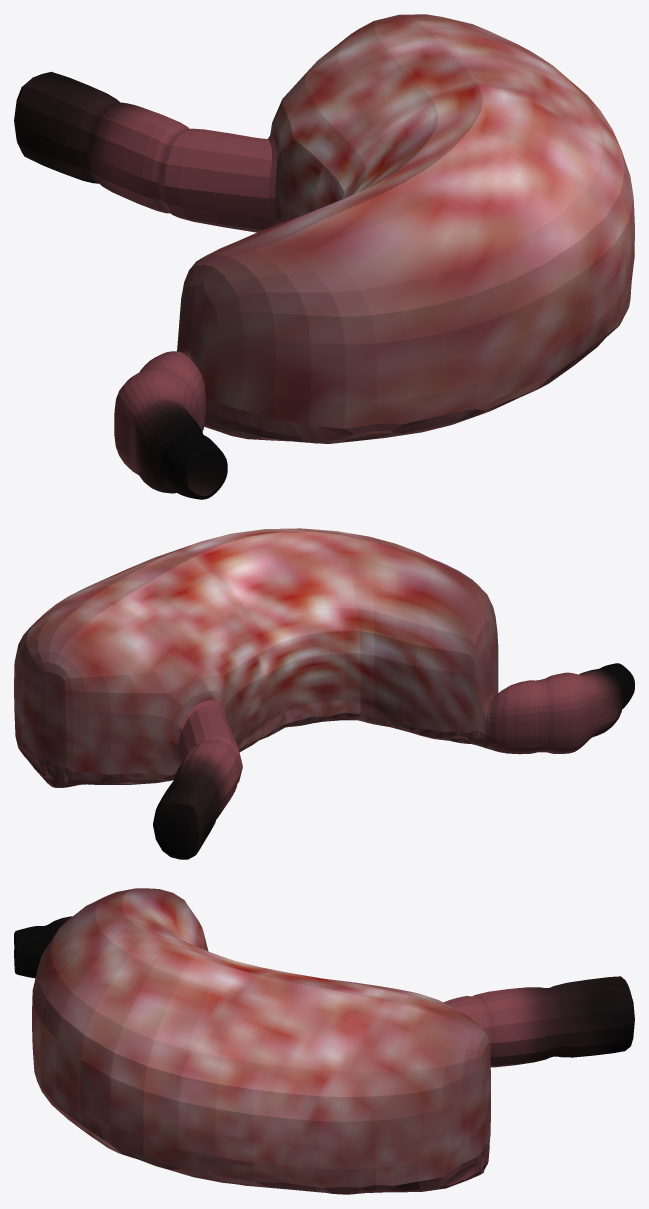
The model's file is Estomago texturizado.fbx.
3 views of the same model, one above another, from view 1: azimuth 30°, elevation 25°; view 2: azimuth 150°, elevation 25°; view 3: azimuth 270°, elevation 25° (orthographic). The views are drawn at different scales.
Visible parts, largest first — view 1: Cube.042; view 2: Cube.042; view 3: Cube.042.
Boxes of the visible parts, left/top/right/bottom form: Cube.042: left=14, top=14, right=634, bottom=499; Cube.042: left=14, top=528, right=634, bottom=859; Cube.042: left=14, top=888, right=634, bottom=1194.
Size of the model in its own units: 6066 by 2221 by 6626.
Materials: 1 (1 with a texture image).
